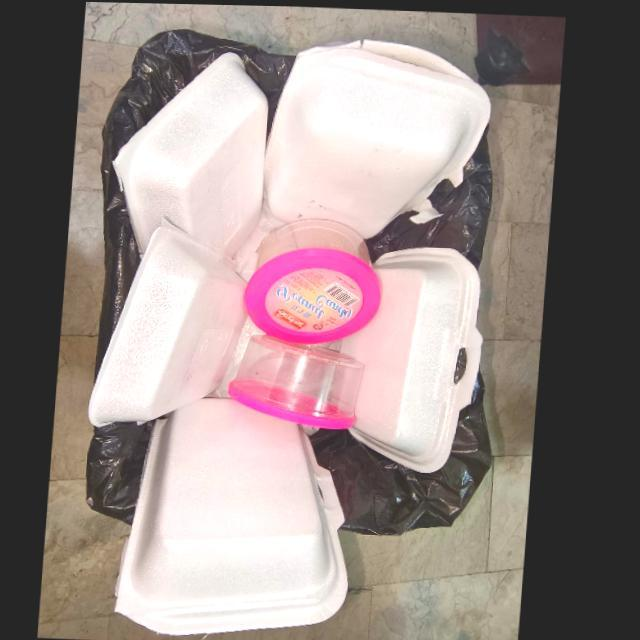plastic: (246, 215, 387, 342), (232, 333, 369, 426)
styrofoam: (121, 394, 356, 633), (263, 35, 493, 237), (334, 243, 488, 470), (92, 217, 252, 425), (114, 48, 269, 254)
